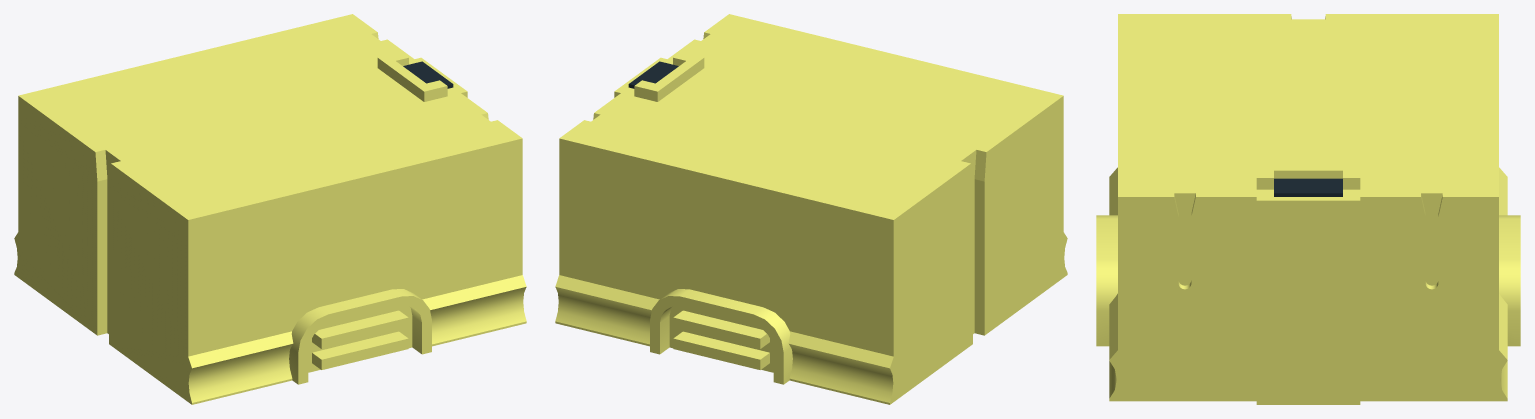
3 views of the same model, side by side, from view 1: azimuth 30°, elevation 25°; view 2: azimuth 150°, elevation 25°; view 3: azimuth 270°, elevation 25° (orthographic). The views are drawn at different scales.
Parts seen in each view (by area): view 1: u9557.dat, u9558.dat, 66757.dat; view 2: u9557.dat, u9558.dat, 66757.dat; view 3: u9558.dat, u9557.dat, 66757.dat.
Part boxes in pixels (bbox=[...]): u9557.dat: bbox=[14, 124, 526, 404]; u9558.dat: bbox=[18, 14, 522, 247]; 66757.dat: bbox=[403, 61, 453, 88]; u9557.dat: bbox=[555, 124, 1067, 404]; u9558.dat: bbox=[559, 14, 1063, 247]; 66757.dat: bbox=[628, 61, 678, 88]; u9558.dat: bbox=[1118, 14, 1498, 232]; u9557.dat: bbox=[1096, 167, 1520, 404]; 66757.dat: bbox=[1274, 178, 1342, 196].
Bounding box in the file's own units: 0.0408 × 0.022 × 0.0392.
